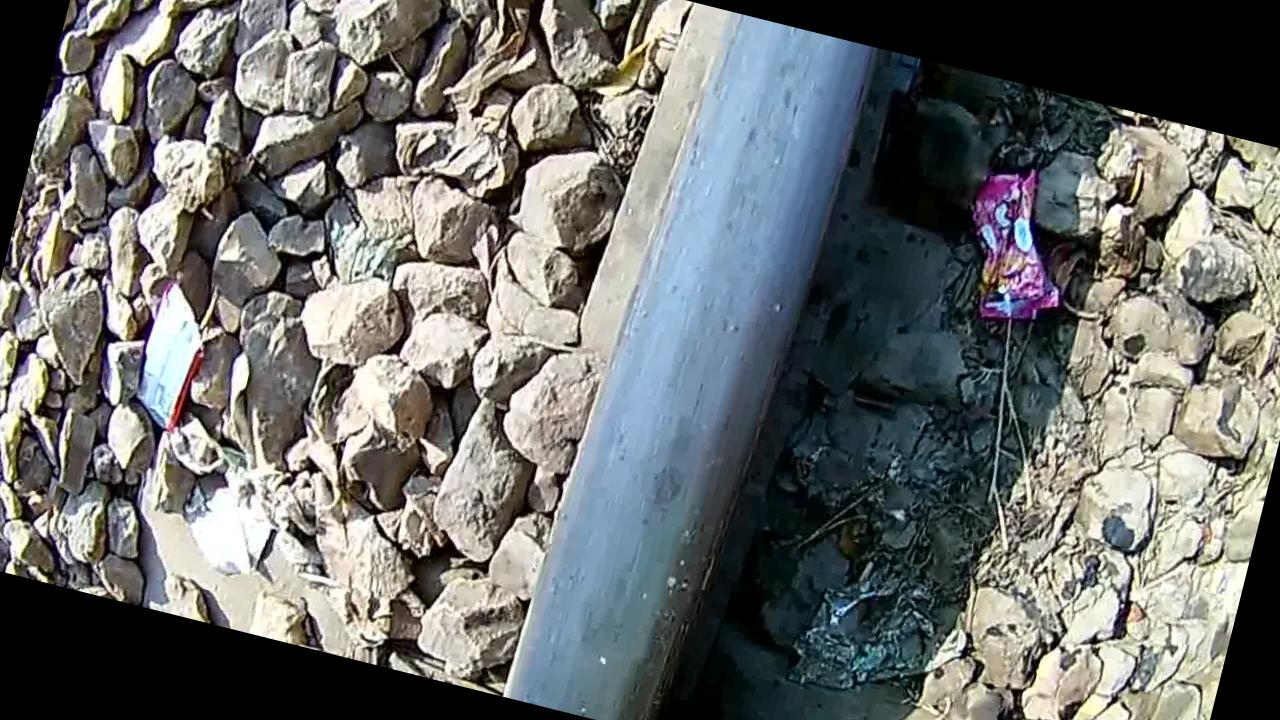bolt_missing: (533, 60, 860, 720)
